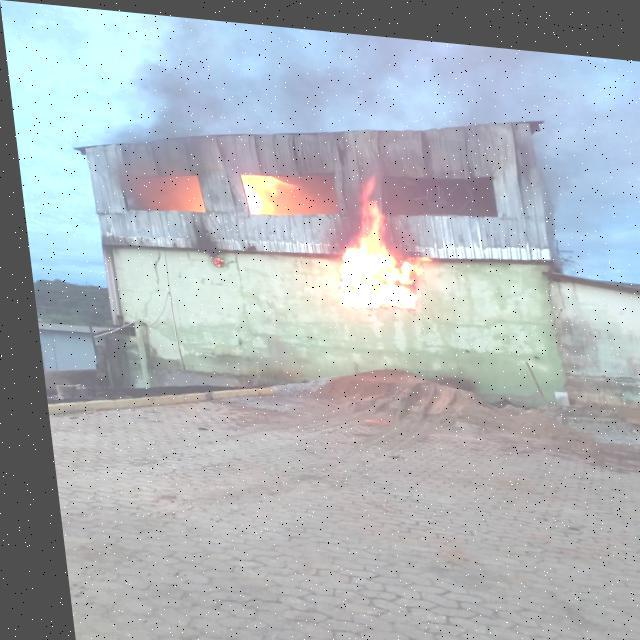Fire: (314, 164, 434, 308), (235, 168, 303, 212)
